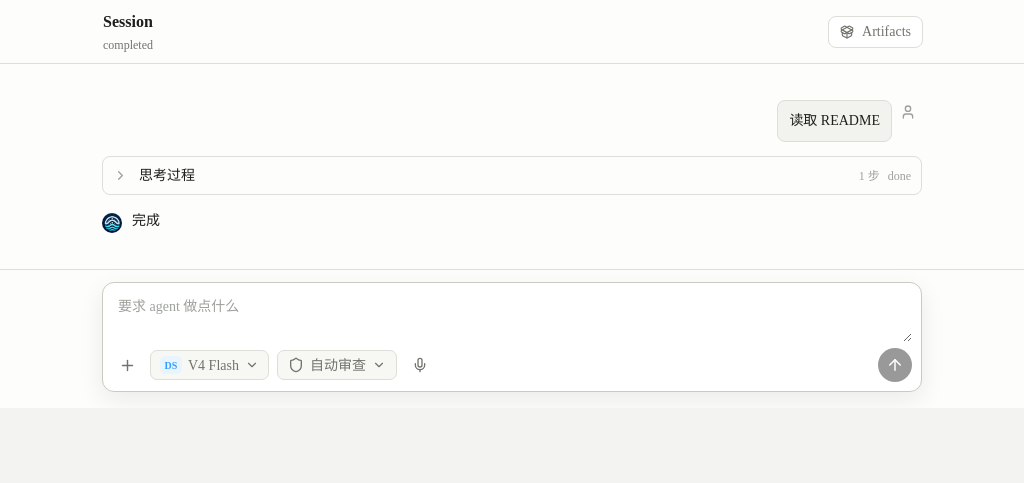
Test: ChatWorkspace › collapses completed thinking groups and expands them on click
Click the text "思考过程".
click(167, 176)  # box [139,168,195,183]
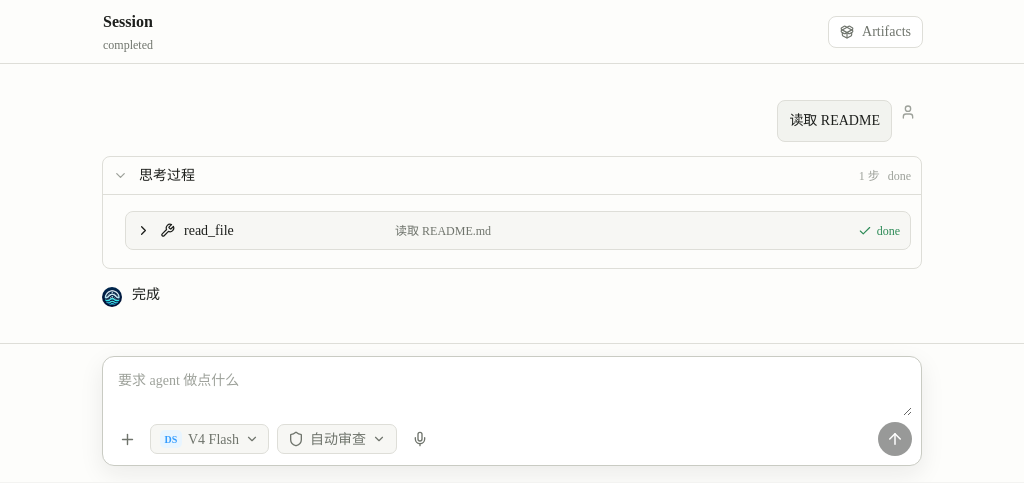
Expected: the element with test id "tool-card" is shown, [125,211,911,250]
